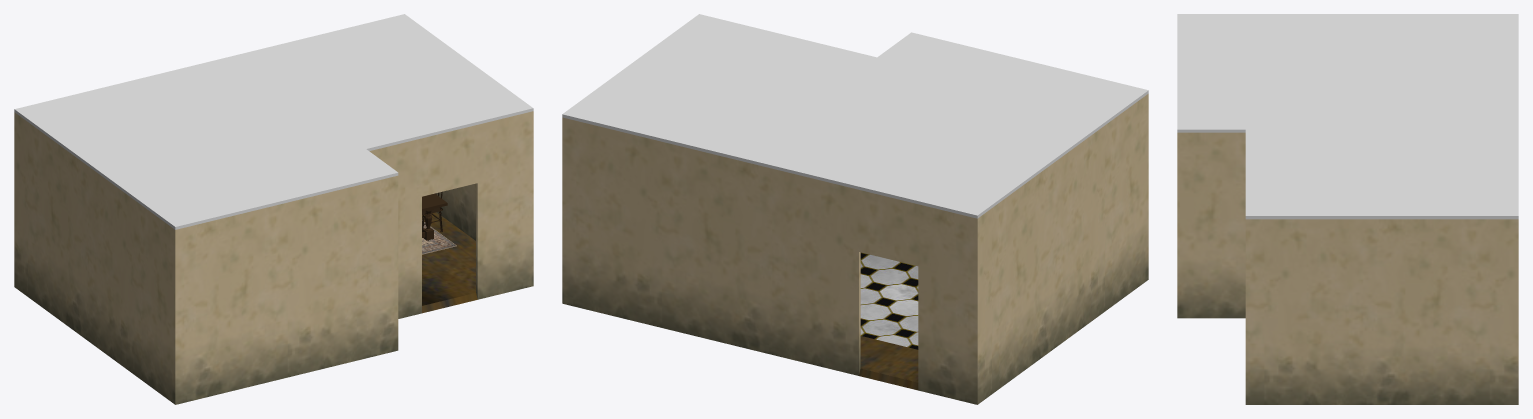
The model's file is kitchen.glb.
3 renders of one model, left to right at view 1: azimuth 30°, elevation 25°; view 2: azimuth 150°, elevation 25°; view 3: azimuth 270°, elevation 25°, orthographic. The views are drawn at different scales.
Visible parts, largest first — view 1: Plane, Ceiling, Dining_Table, Rug; view 2: Plane, Ceiling; view 3: Ceiling, Plane.
Boxes of the visible parts, left/top/right/bottom form: Plane: left=14, top=111, right=533, bottom=404; Ceiling: left=14, top=14, right=533, bottom=229; Dining_Table: left=422, top=193, right=447, bottom=240; Rug: left=422, top=220, right=456, bottom=254; Plane: left=562, top=93, right=1148, bottom=404; Ceiling: left=562, top=14, right=1148, bottom=218; Ceiling: left=1177, top=14, right=1518, bottom=219; Plane: left=1177, top=132, right=1518, bottom=404.
Bounding box in the file's own units: 7 × 3.05 × 5.
32 materials, 5 textured.
